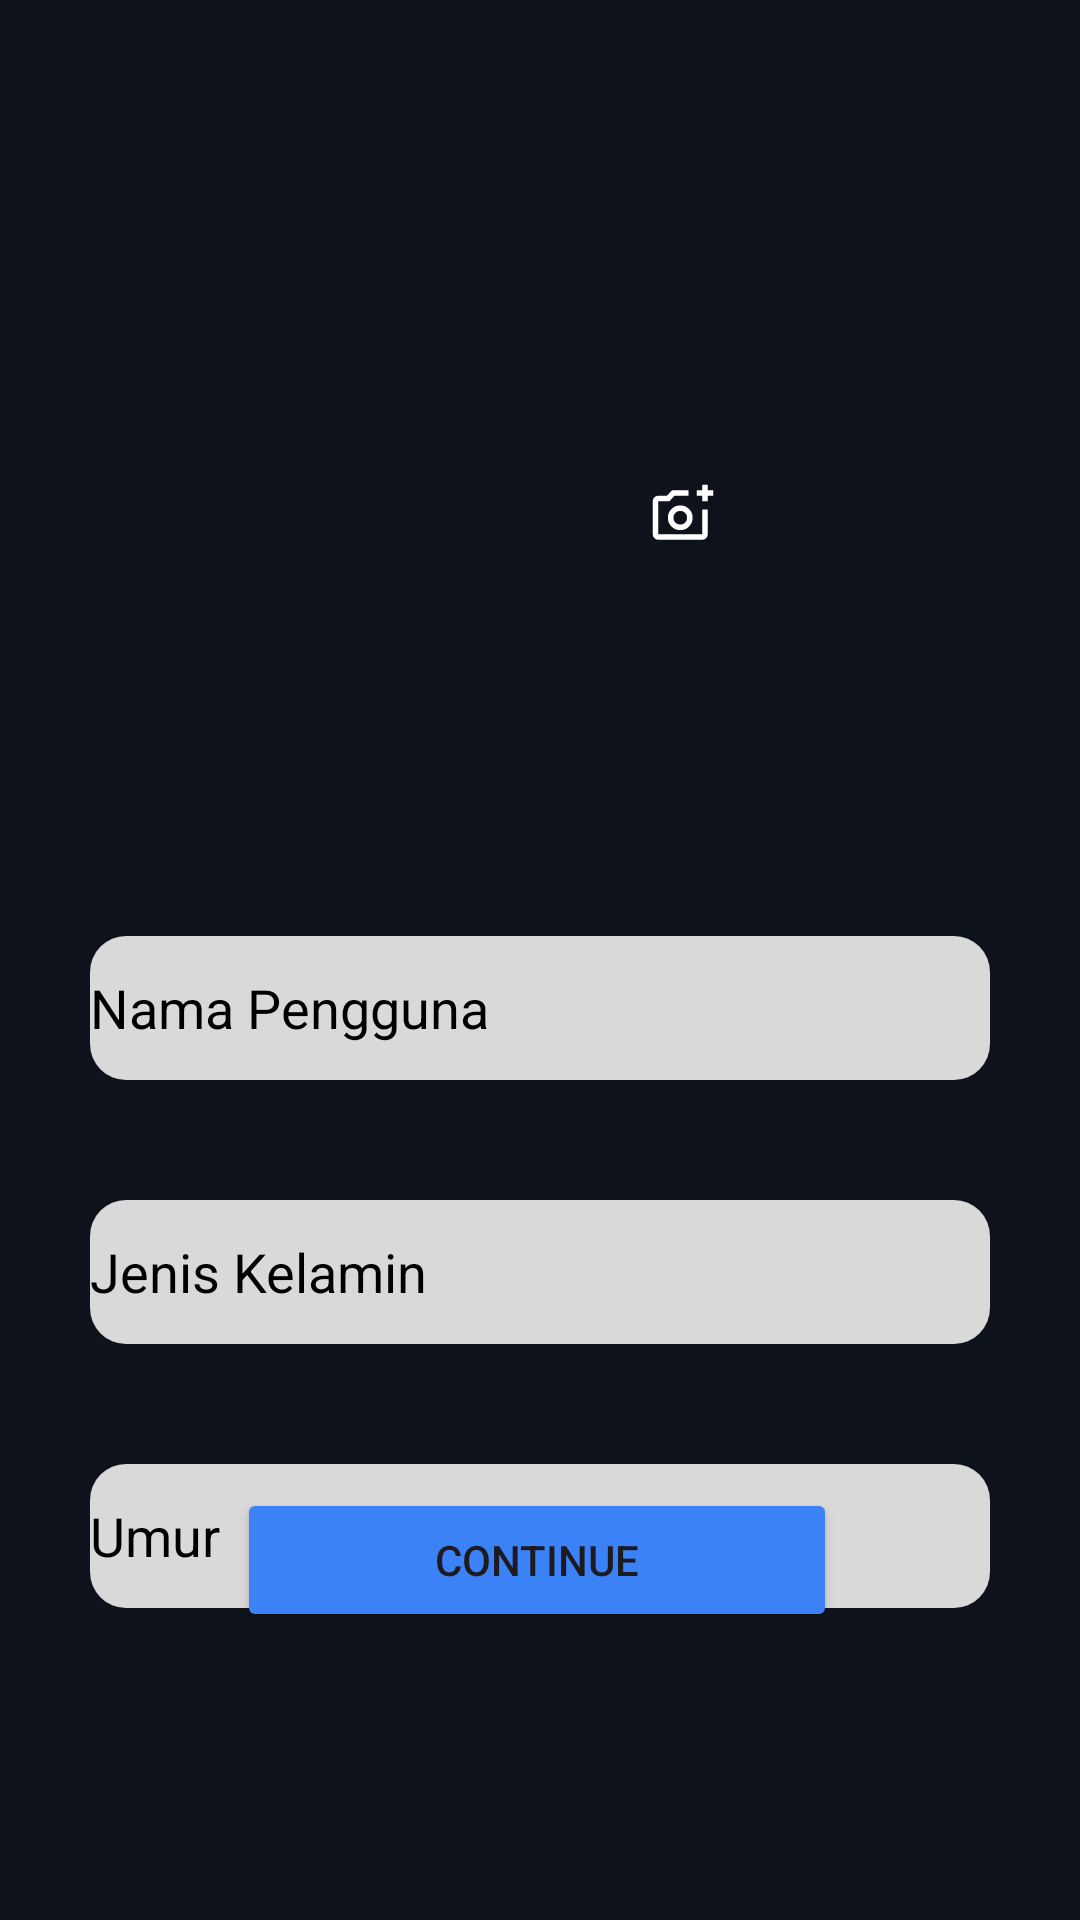

Icons on this 1080x1920 Android screen, each with its box as (x1, y1, x2, y2):
add photo: (652, 484, 714, 540)
